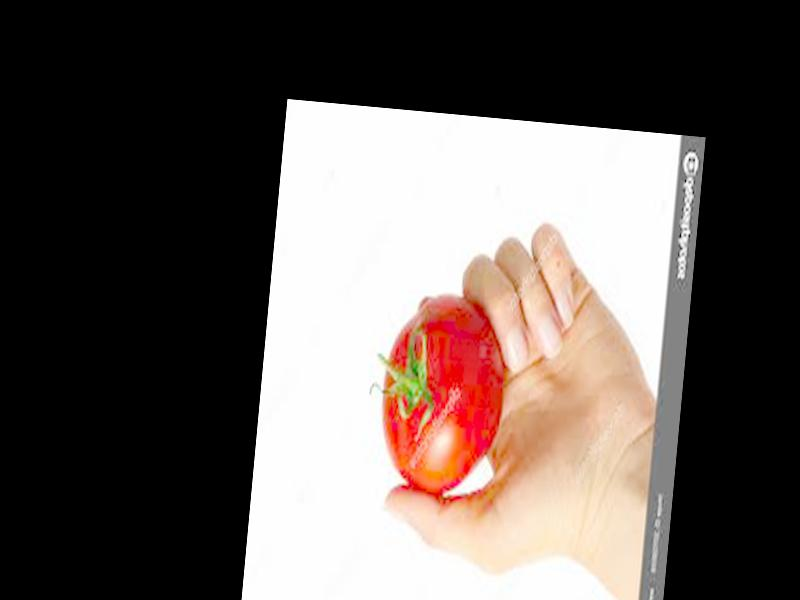Tomato: (373, 293, 512, 498)
